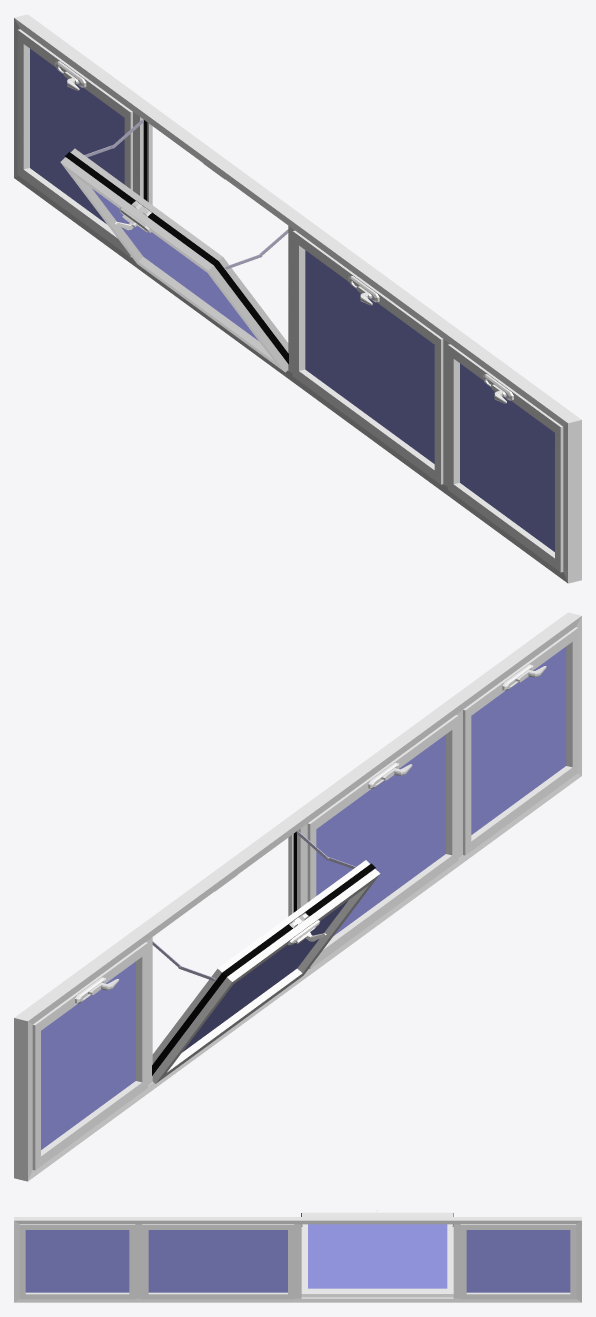
File: AwningWindow.fbx
The picture shows the model from 3 angles, top to bottom: view 1: azimuth 30°, elevation 25°; view 2: azimuth 150°, elevation 25°; view 3: azimuth 270°, elevation 25°; orthographic projection. The views are drawn at different scales.
Visible parts, largest first — view 1: AwningWindow; view 2: AwningWindow; view 3: AwningWindow.
Boxes of the visible parts, x1=… form: AwningWindow: x1=14, y1=14, x2=581, y2=583; AwningWindow: x1=14, y1=612, x2=581, y2=1181; AwningWindow: x1=14, y1=1210, x2=581, y2=1302.
Size of the model in its own units: 72.84 by 97.03 by 608.
